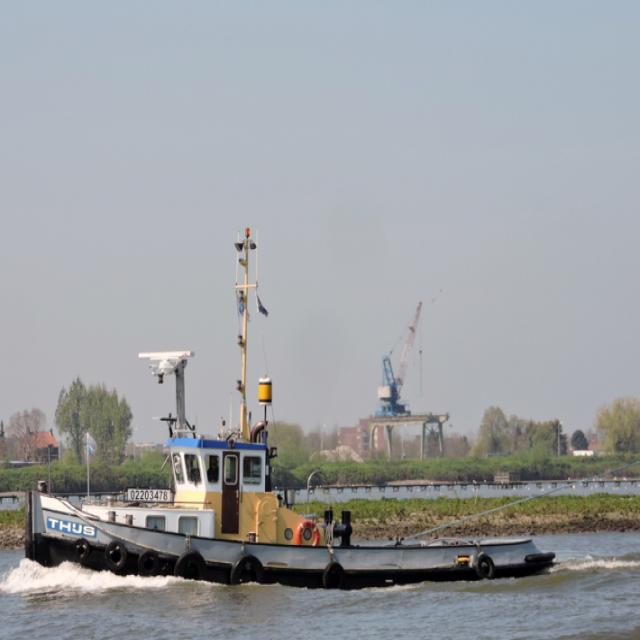tugboat: (20, 345, 563, 597)
